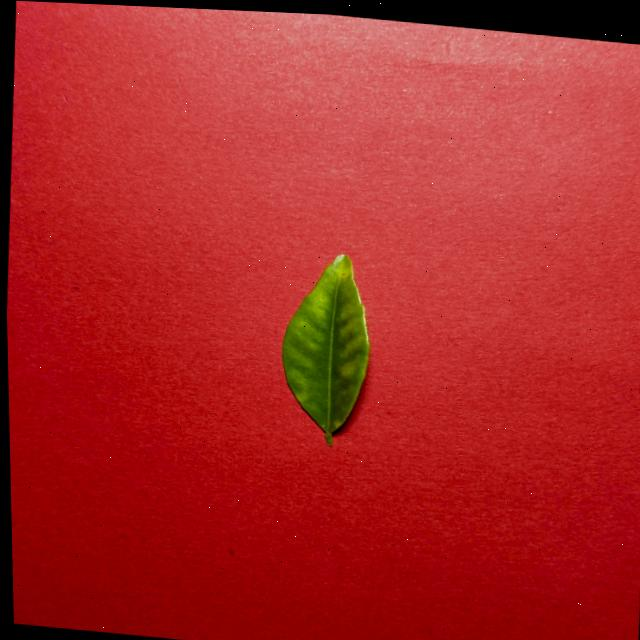greening: (283, 255, 370, 446)
